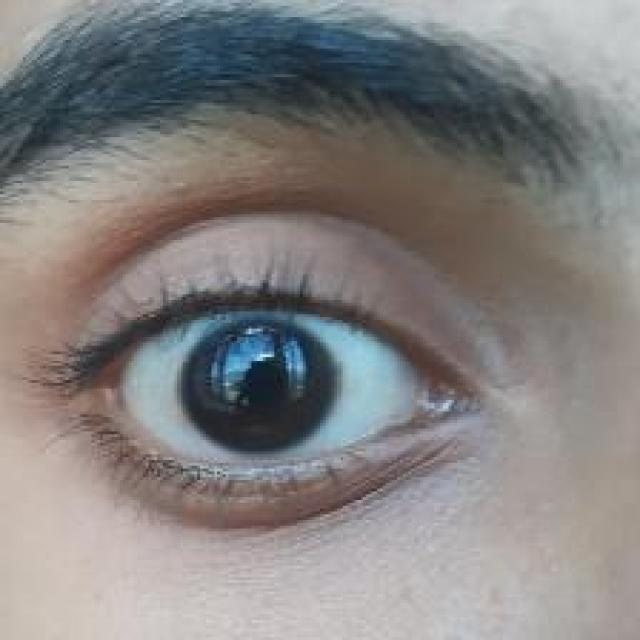Normal: (17, 188, 506, 543)
